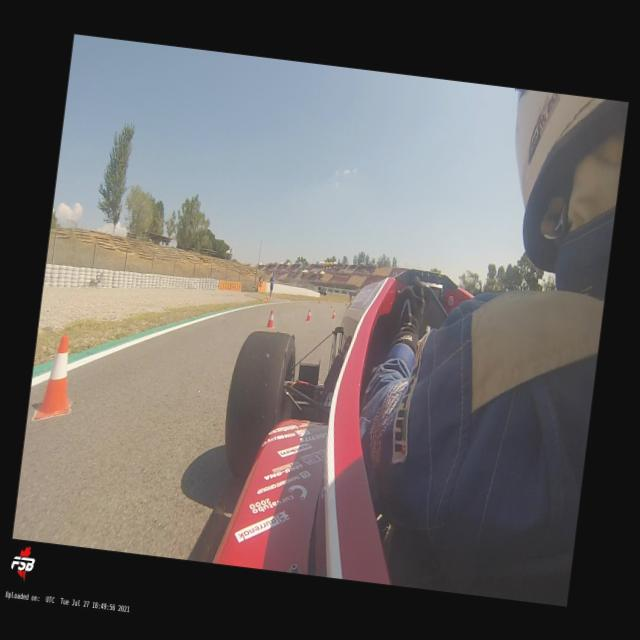orange_cone: (34, 332, 80, 423), (266, 308, 276, 329), (305, 308, 312, 321), (332, 309, 336, 318), (264, 296, 268, 302), (330, 302, 332, 308)
yellow_cone: (260, 298, 262, 304)
